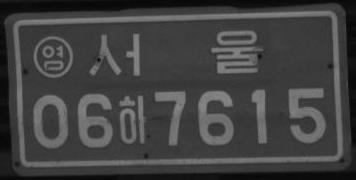0: (31, 93, 68, 150)
1: (243, 88, 276, 145)
5: (288, 86, 326, 144)
6: (196, 88, 234, 146), (76, 92, 114, 149)
7: (153, 89, 187, 146)
서울_D: (88, 29, 264, 75)
영: (33, 35, 74, 79)
하: (118, 94, 147, 144)
